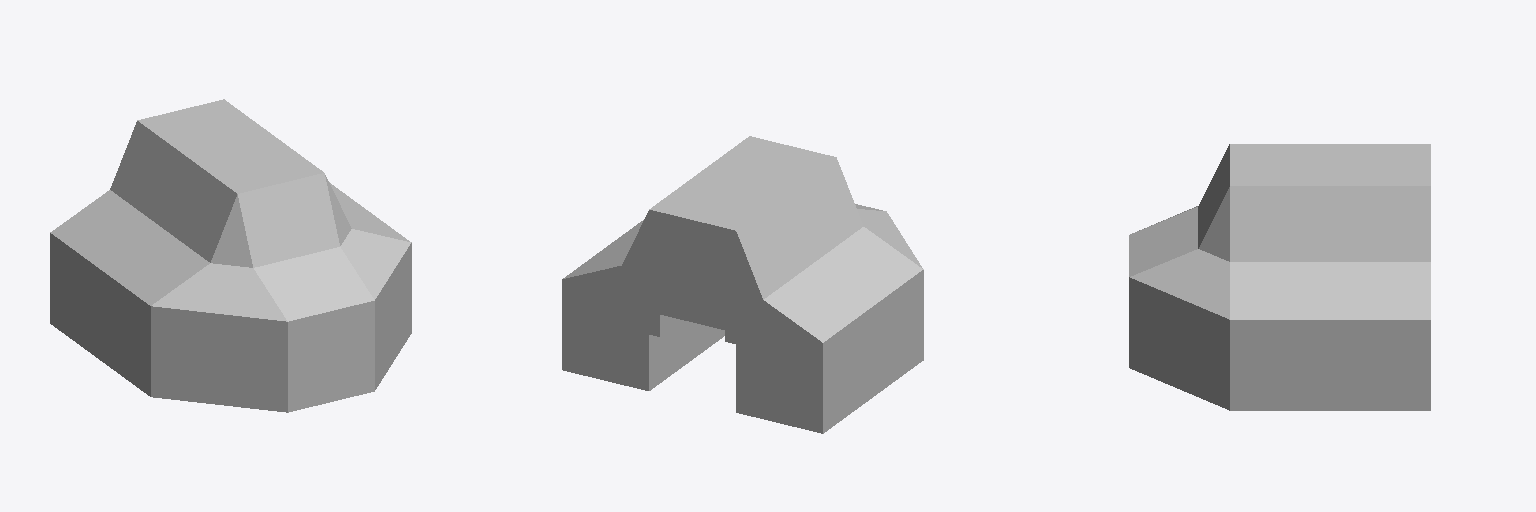
File: clay_oven_mirrored.obj
3 renders of one model, left to right at view 1: azimuth 30°, elevation 25°; view 2: azimuth 150°, elevation 25°; view 3: azimuth 270°, elevation 25°, orthographic.
Parts seen in each view (by area): view 1: plane, cube; view 2: cube, plane; view 3: plane, cube.
Part boxes in pixels (x1,y1,x2,y2): plane: (50, 121, 411, 412); cube: (50, 99, 374, 412); cube: (562, 136, 923, 433); plane: (563, 157, 923, 342); plane: (1129, 144, 1430, 410); cube: (1230, 144, 1430, 410).
Bounding box in the file's own units: 3 × 2 × 3.